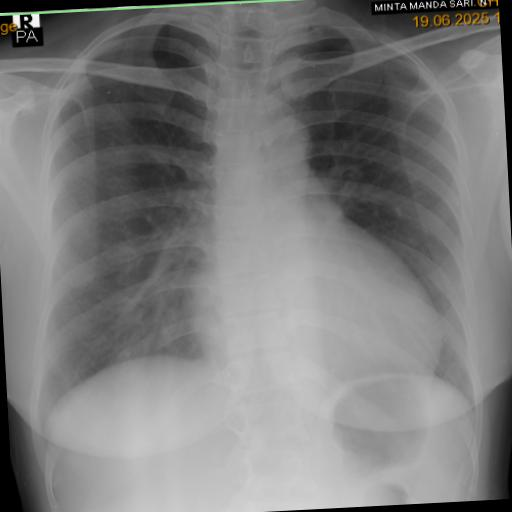kardiomegali: (178, 191, 458, 402)
